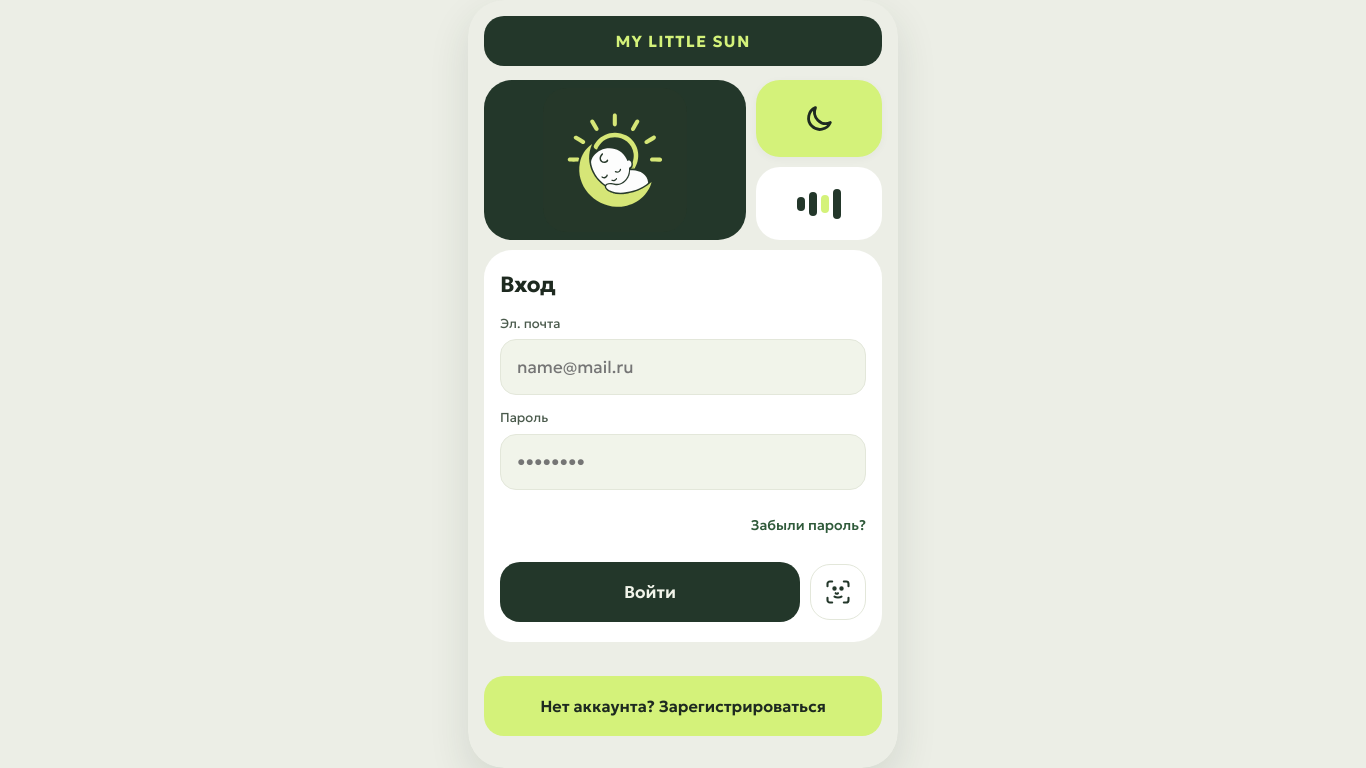
Test: LoginPage Component › opens PasswordResetModal when clicking forgot password link
This screenshot has width=1366, height=768.
Step 1. Click the link with test id "forgot-password-btn" → coordinates (808, 525), box [751,516,866,534]
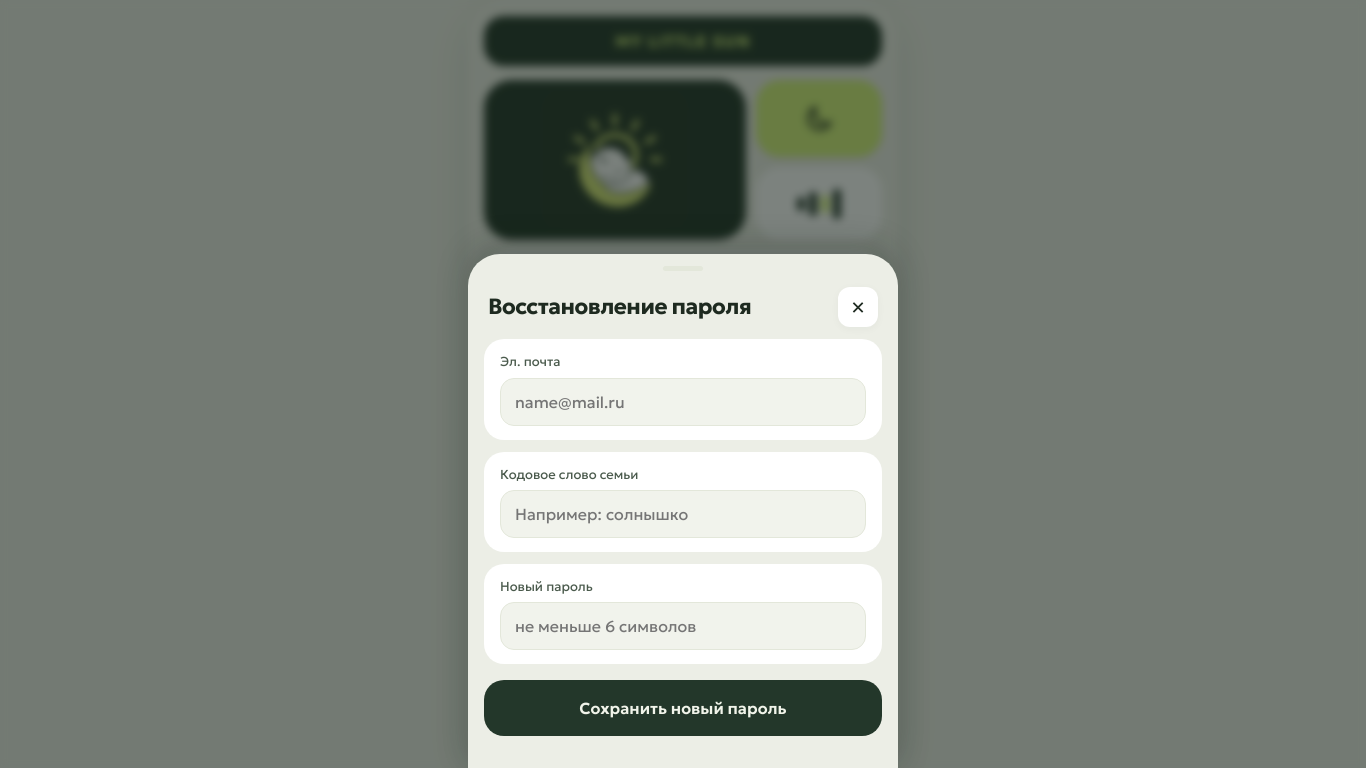
Check: the dialog with test id "reset-password-modal" is shown, box [468,254,898,767]
Check: the heading with test id "reset-password-title" reads "Восстановление пароля", box [488,293,751,320]
Check: the field with test id "reset-password-email" is shown, box [500,378,866,426]
